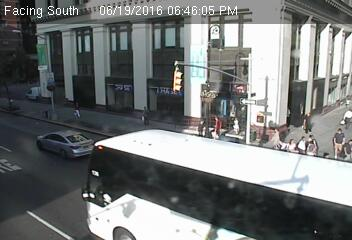neg: (50, 44, 67, 66), (207, 25, 223, 47), (290, 80, 306, 102), (9, 55, 25, 76), (121, 83, 136, 104), (103, 91, 116, 109)
pos: (330, 125, 351, 154), (297, 107, 317, 134), (264, 123, 284, 149), (302, 134, 321, 159), (208, 112, 224, 134), (295, 133, 310, 154), (138, 105, 153, 125), (69, 98, 84, 118), (228, 115, 242, 134), (339, 105, 351, 127), (284, 136, 297, 153), (195, 116, 208, 133), (342, 138, 351, 158)
